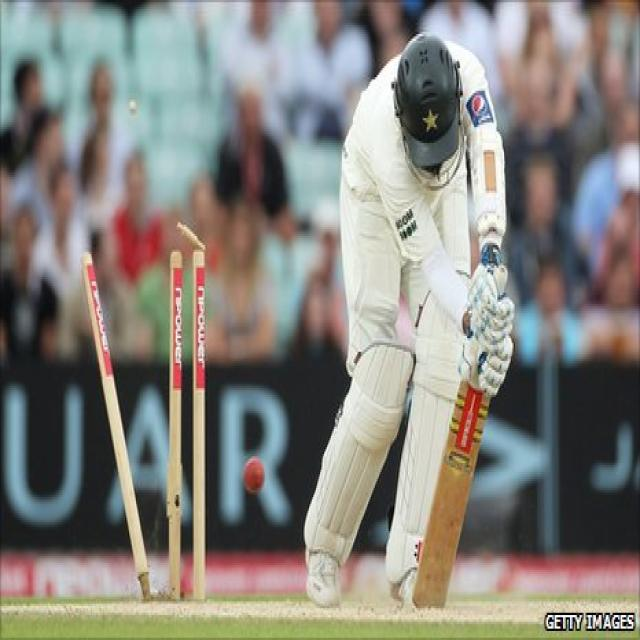ball: (241, 446, 266, 501)
stump: (76, 219, 207, 600)
